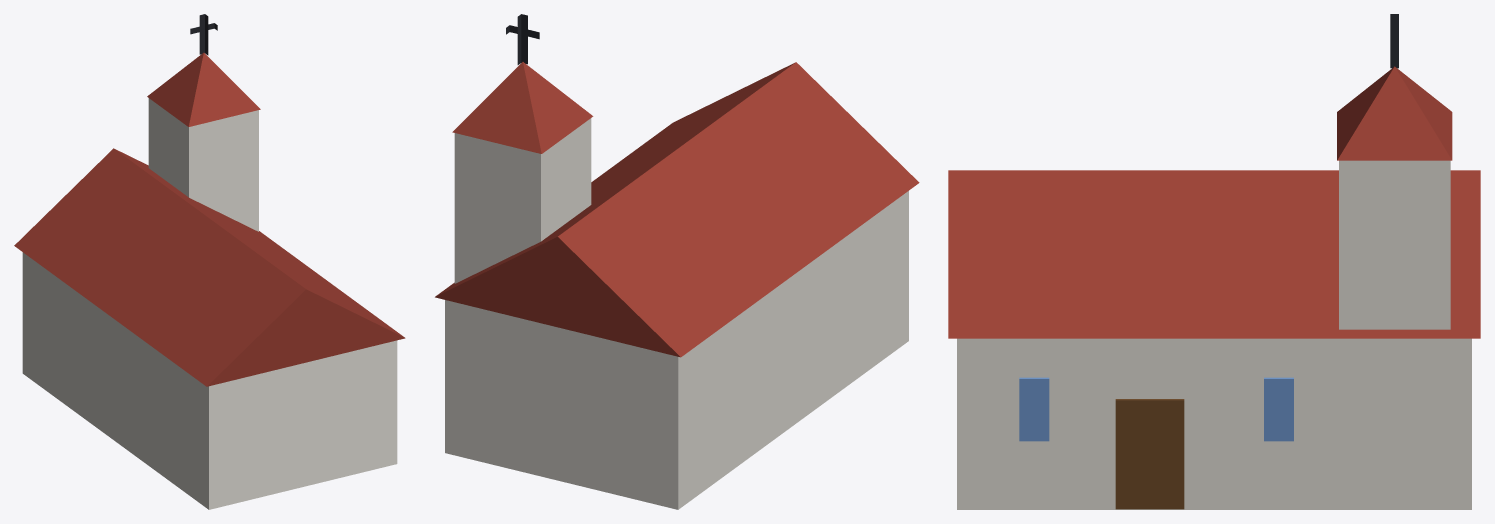
Rendered from capilla.obj.
3 renders of one model, left to right at view 1: azimuth 30°, elevation 25°; view 2: azimuth 150°, elevation 25°; view 3: azimuth 270°, elevation 25°, orthographic. The views are drawn at different scales.
Visible parts, largest first — view 1: capilla; view 2: capilla; view 3: capilla.
Part boxes in pixels (x1,y1,x2,y2): capilla: [14, 14, 405, 509]; capilla: [435, 14, 919, 509]; capilla: [948, 14, 1480, 509].
Size of the model in its own units: 7.4 by 12.1 by 12.4.
